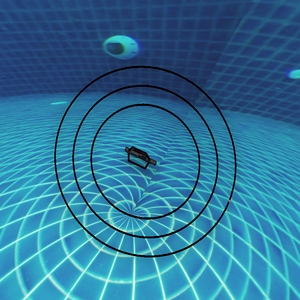circle: (44, 43, 253, 261)
submarine: (124, 146, 150, 167)
